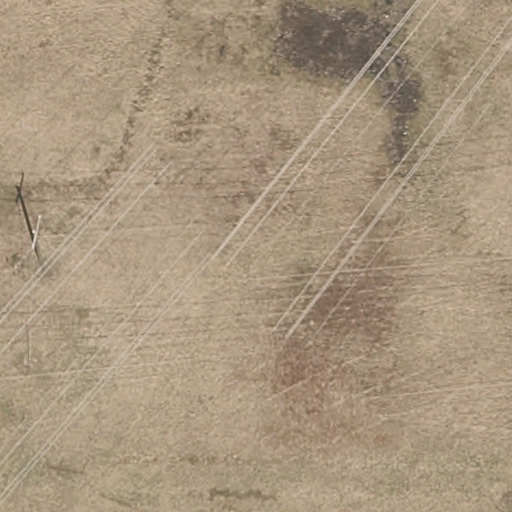DT: (26, 213, 47, 252)
